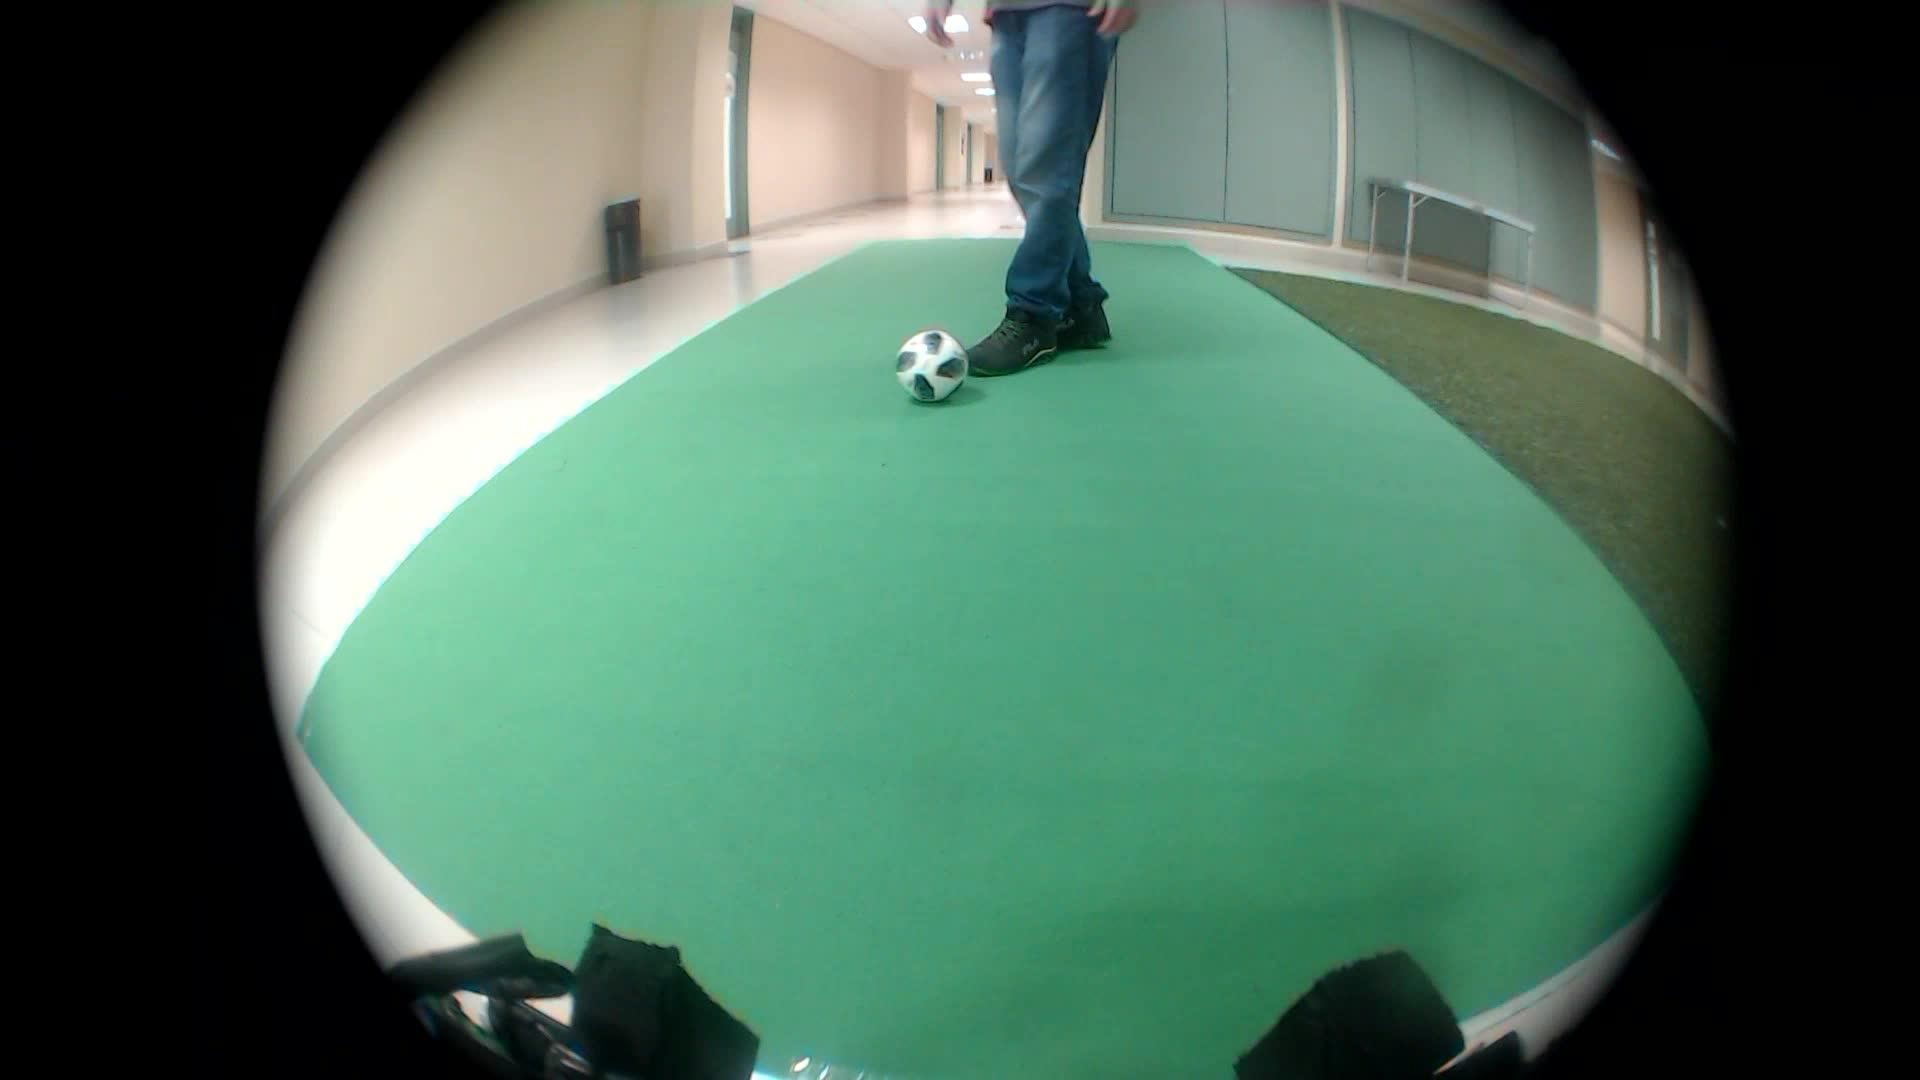ball: (881, 322, 965, 407)
